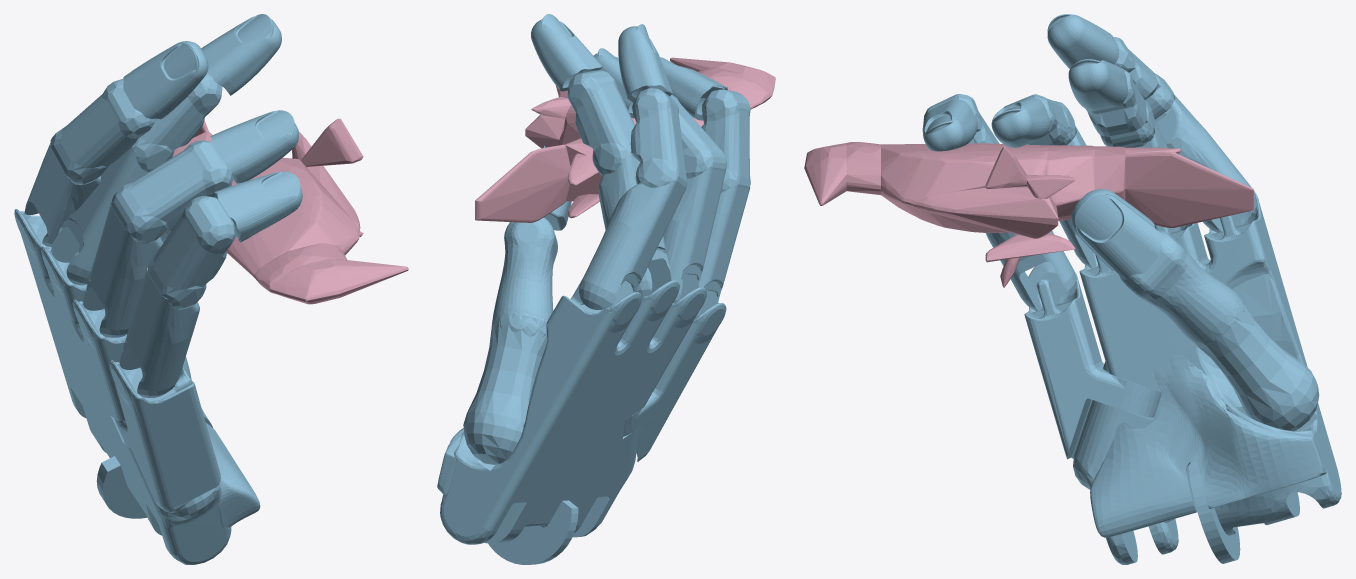
3 views of the same model, side by side, from view 1: azimuth 30°, elevation 25°; view 2: azimuth 150°, elevation 25°; view 3: azimuth 270°, elevation 25° (orthographic). The views are drawn at different scales.
Parts seen in each view (by area): view 1: hand_isaac_q, world; view 2: hand_isaac_q, world; view 3: hand_isaac_q, world.
Boxes of the visible parts, x1,y1,x2,y2 form: hand_isaac_q: (14,14,302,564); world: (173,118,408,304); hand_isaac_q: (437,14,750,564); world: (475,57,775,222); hand_isaac_q: (922,14,1341,564); world: (804,142,1254,287).
Size of the model in its own units: 0.0828 by 0.1941 by 0.1788.
